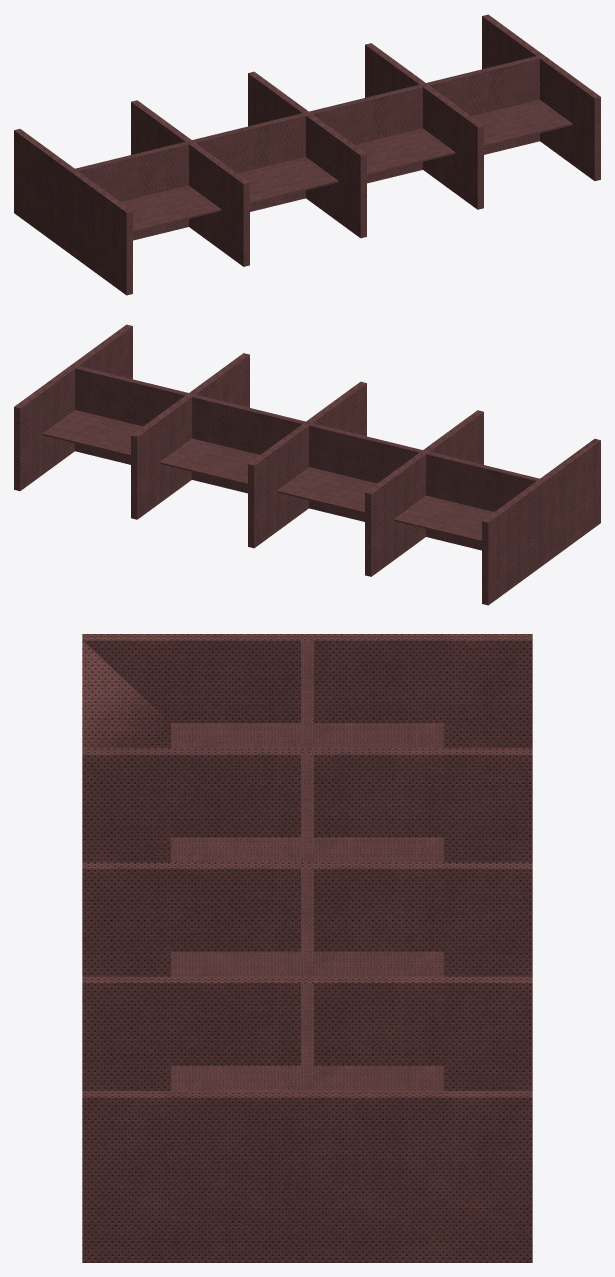
The model's file is OfficeTables.FBX.
3 renders of one model, top to bottom at view 1: azimuth 30°, elevation 25°; view 2: azimuth 150°, elevation 25°; view 3: azimuth 270°, elevation 25°, orthographic. The views are drawn at different scales.
Parts seen in each view (by area): view 1: OfficeTables; view 2: OfficeTables; view 3: OfficeTables.
Boxes of the visible parts, bbox=[...] form: OfficeTables: bbox=[14, 14, 600, 295]; OfficeTables: bbox=[14, 324, 600, 605]; OfficeTables: bbox=[82, 634, 532, 1262].
Size of the model in its own units: 874 by 146 by 359.
1 material, 1 textured.
